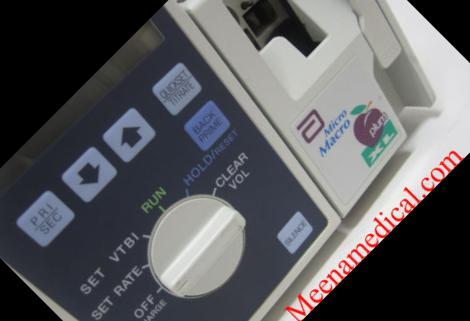plumxl1: (6, 9, 462, 311)
